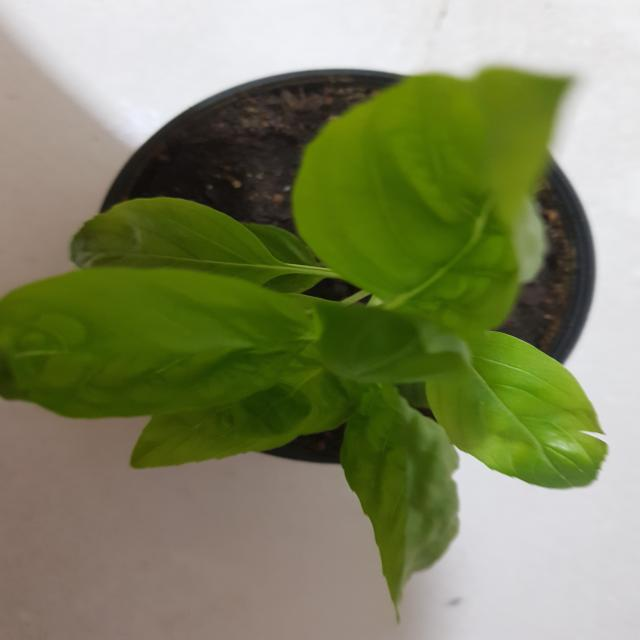Sweet Basil: (8, 88, 640, 616)
